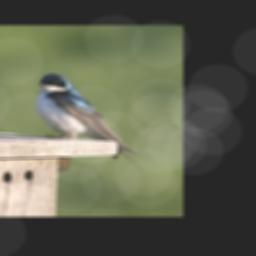Swallow: (34, 72, 139, 164)
